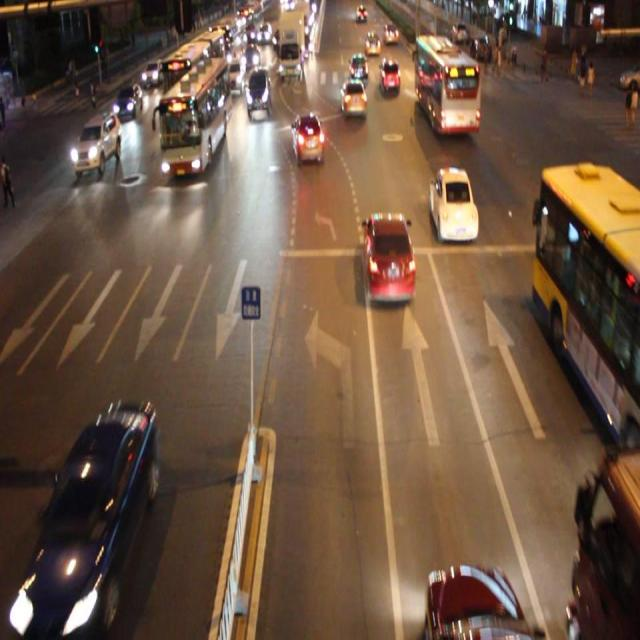bus: (570, 450, 640, 639)
car: (26, 399, 156, 625), (423, 564, 533, 640), (362, 207, 414, 299), (429, 164, 476, 238), (74, 109, 121, 172), (290, 109, 323, 161), (246, 64, 272, 110), (114, 78, 143, 119), (340, 75, 367, 117), (378, 54, 400, 89), (347, 49, 368, 82), (141, 55, 163, 86)
van: (533, 164, 640, 452), (161, 56, 228, 172), (413, 29, 479, 131)
